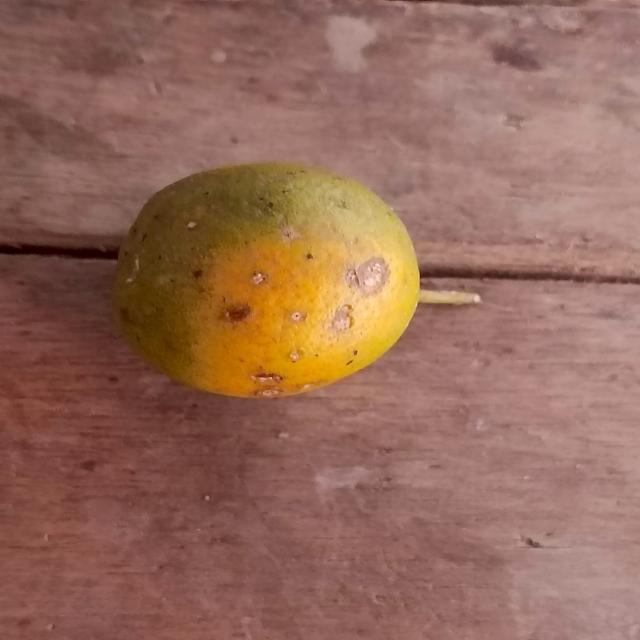black spot: (106, 163, 426, 397)
